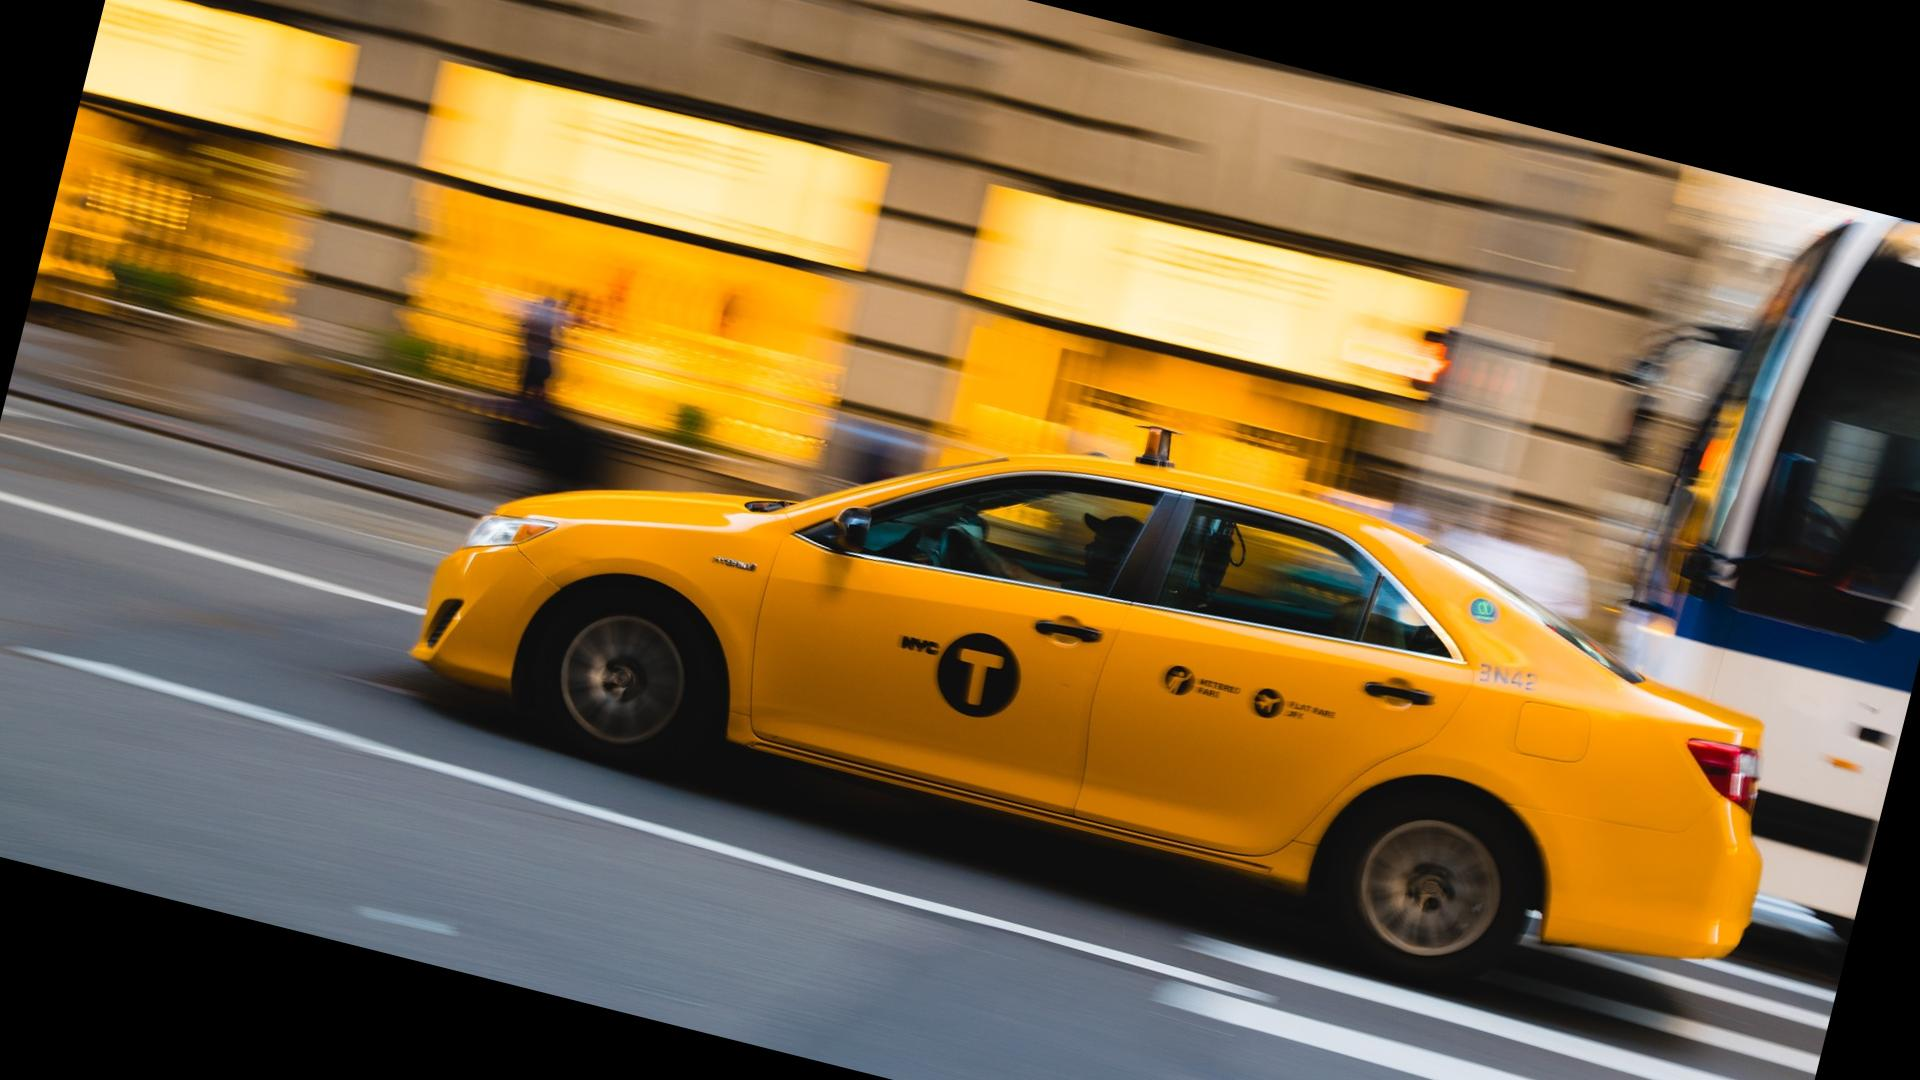taxi: (404, 394, 1764, 1009)
